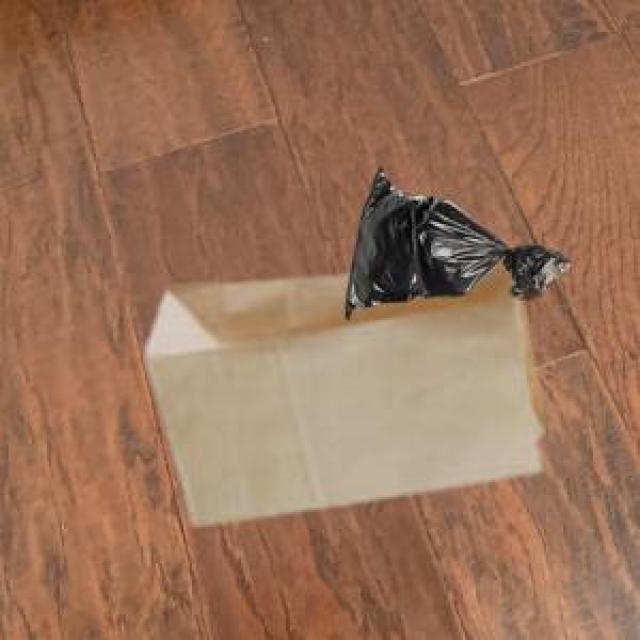miscellaneous trash: (341, 164, 565, 316)
paper: (143, 260, 538, 521)
